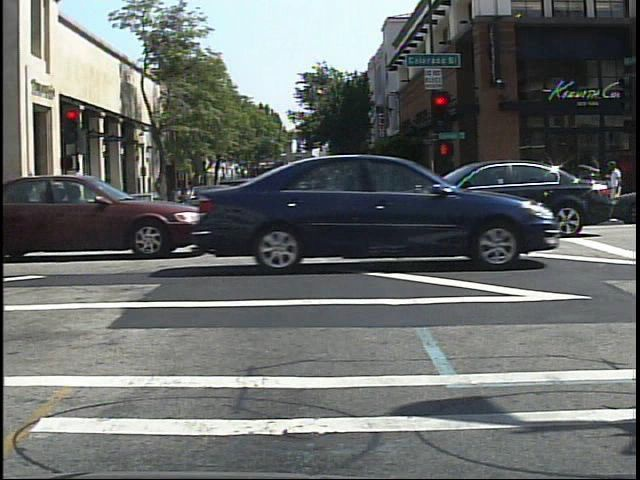person: (603, 156, 629, 221)
